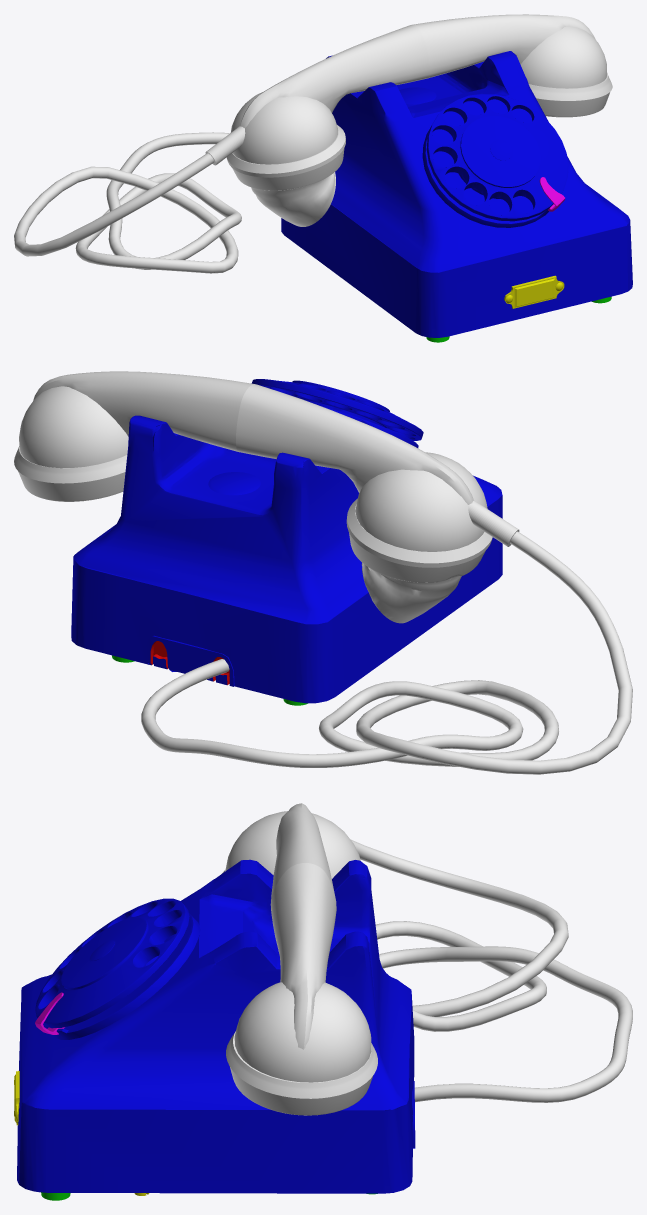
Rendered from materialowanie.fbx.
The picture shows the model from 3 angles, top to bottom: view 1: azimuth 30°, elevation 25°; view 2: azimuth 150°, elevation 25°; view 3: azimuth 270°, elevation 25°; orthographic projection. The views are drawn at different scales.
Visible parts, largest first — view 1: Model.001, słuchawka, kabel; view 2: Model.001, słuchawka, kabel; view 3: Model.001, słuchawka, kabel.
Part boxes in pixels (left/top/right/bottom): Model.001: left=281, top=51, right=632, bottom=342; słuchawka: left=205, top=14, right=612, bottom=226; kabel: left=14, top=132, right=241, bottom=273; Model.001: left=71, top=379, right=502, bottom=705; słuchawka: left=14, top=371, right=519, bottom=623; kabel: left=141, top=531, right=632, bottom=774; Model.001: left=14, top=859, right=415, bottom=1200; słuchawka: left=222, top=803, right=377, bottom=1115; kabel: left=350, top=839, right=632, bottom=1102.
Bounding box in the file's own units: 34.2 × 13.57 × 27.16.
